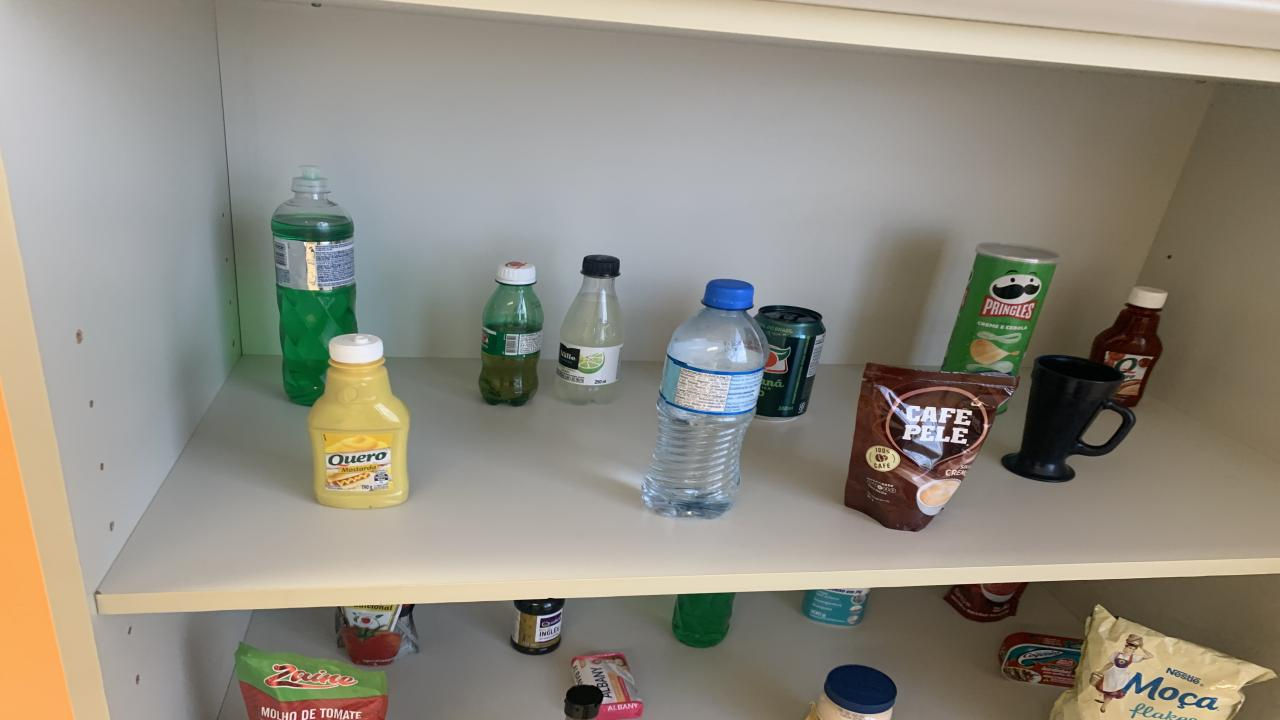Cleaner-Cleanup_Items: (802, 589, 870, 626)
Coffee-Pantry_Items: (845, 364, 1018, 531)
Detergent-Cleanup_Items: (270, 165, 358, 405), (672, 592, 735, 647)
English_Sauce-Pantry_Items: (512, 598, 565, 654), (565, 684, 602, 720)
Flakes-Snacks: (1050, 606, 1272, 720)
Guarana-Drinks: (480, 262, 542, 407)
Guarana_Can-Drinks: (755, 306, 825, 420)
Ketchup-Pantry_Items: (1090, 287, 1168, 407)
Mayonnaise-Pantry_Items: (810, 666, 898, 720)
Mustard-Pantry_Items: (308, 332, 410, 508)
Pringles-Snacks: (942, 242, 1060, 375)
Soap-Cleanup_Items: (570, 652, 642, 720)
Soda-Drinks: (555, 255, 625, 405)
Tomato_Sauce-Pantry_Items: (235, 643, 388, 720), (335, 604, 420, 666), (945, 583, 1028, 622)
Tuna_Can-Pantry_Items: (1000, 632, 1082, 686)
Water_Bottle-Drinks: (642, 279, 770, 518)
